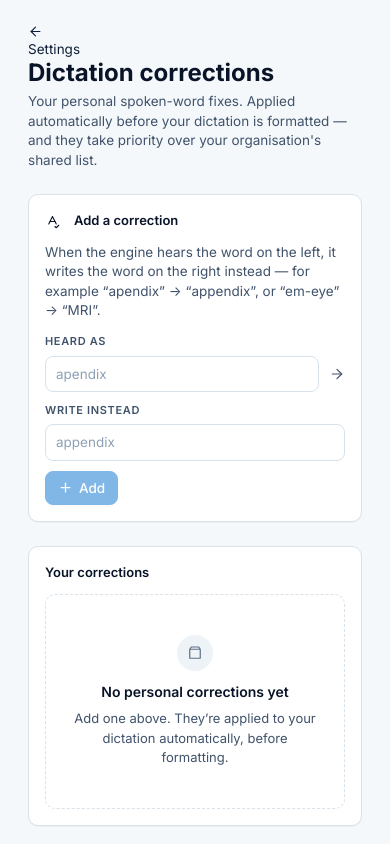
CorrectionsPage › sends a trimmed add to the backend and clears the form
Check: the text "No personal corrections yet" is shown, box 101,683 -> 289,702
Type "  apendix " into the field labelled "Heard as" at point(182, 374), box 45,356 -> 319,392
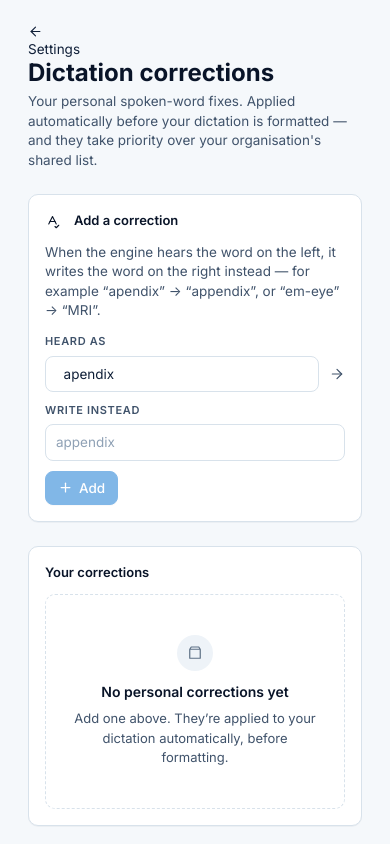
Type " appendix " into the field labelled "Write instead" at point(195, 442), box 45,424 -> 345,461
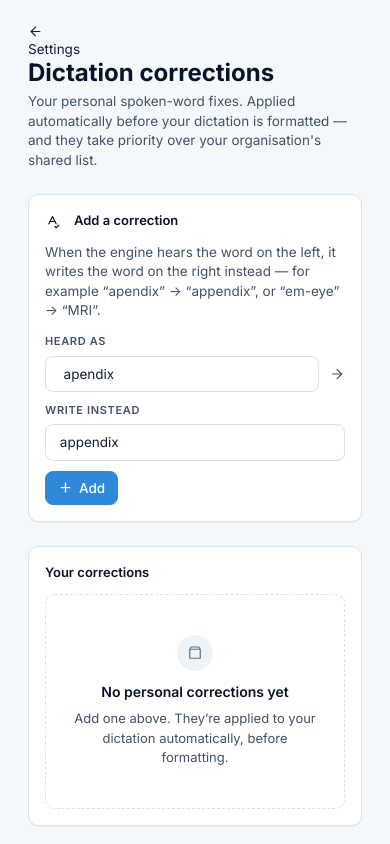
Click the button "Add" at point(82, 488), box 45,470 -> 118,505
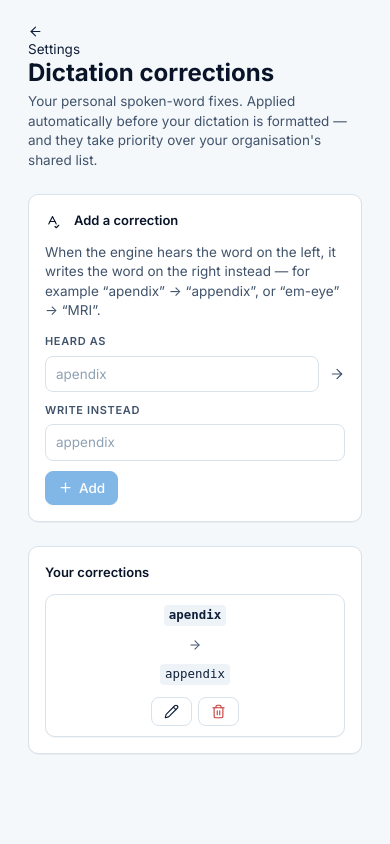
Check: the text "apendix" is shown, box 164,605 -> 226,626
